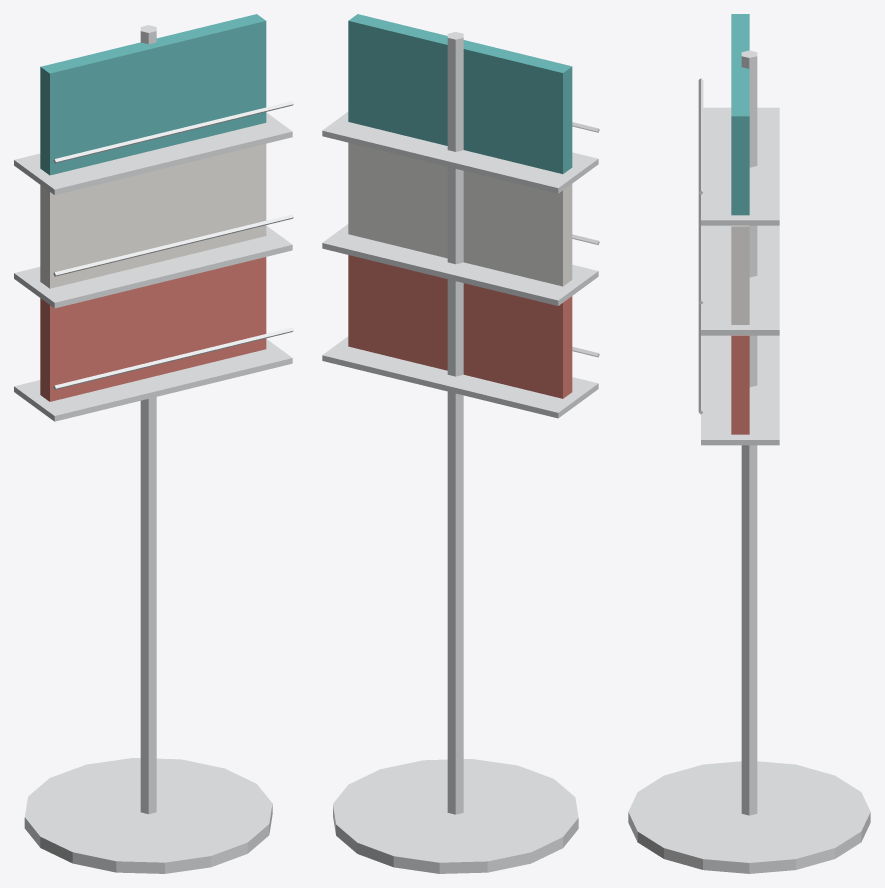
File: brochure_rack.glb
The picture shows the model from 3 angles, left to right: view 1: azimuth 30°, elevation 25°; view 2: azimuth 150°, elevation 25°; view 3: azimuth 270°, elevation 25°; orthographic projection. The views are drawn at different scales.
Visible parts, largest first — view 1: brochure_rack_chrome, brochure_rack_teal, brochure_rack_red, brochure_rack_sign_w; view 2: brochure_rack_chrome, brochure_rack_teal, brochure_rack_sign_w, brochure_rack_red; view 3: brochure_rack_chrome, brochure_rack_teal, brochure_rack_red, brochure_rack_sign_w.
Boxes of the visible parts, box(x1,y1,x2,y2) form: brochure_rack_chrome: box(14, 25, 293, 873); brochure_rack_teal: box(40, 14, 266, 175); brochure_rack_red: box(40, 257, 266, 401); brochure_rack_sign_w: box(40, 144, 266, 288); brochure_rack_chrome: box(322, 32, 599, 873); brochure_rack_teal: box(348, 14, 572, 173); brochure_rack_sign_w: box(348, 142, 572, 286); brochure_rack_red: box(348, 255, 572, 398); brochure_rack_chrome: box(628, 50, 870, 873); brochure_rack_teal: box(731, 14, 749, 215); brochure_rack_red: box(731, 335, 749, 434); brochure_rack_sign_w: box(731, 225, 749, 324).
Size of the model in its own units: 0.44 by 1.4 by 0.4.
